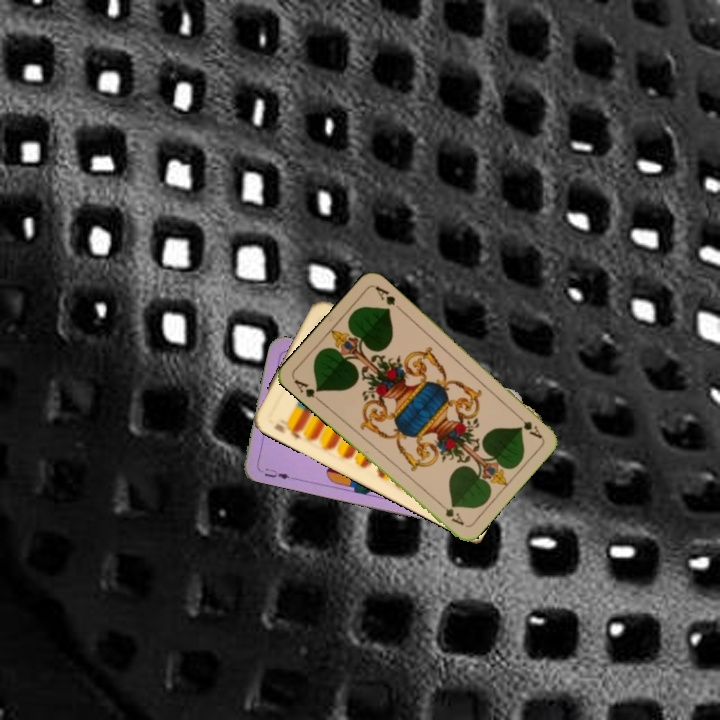E10: (270, 419, 306, 442)
EU: (255, 464, 295, 482)
GA: (511, 409, 545, 441), (290, 375, 324, 405)
